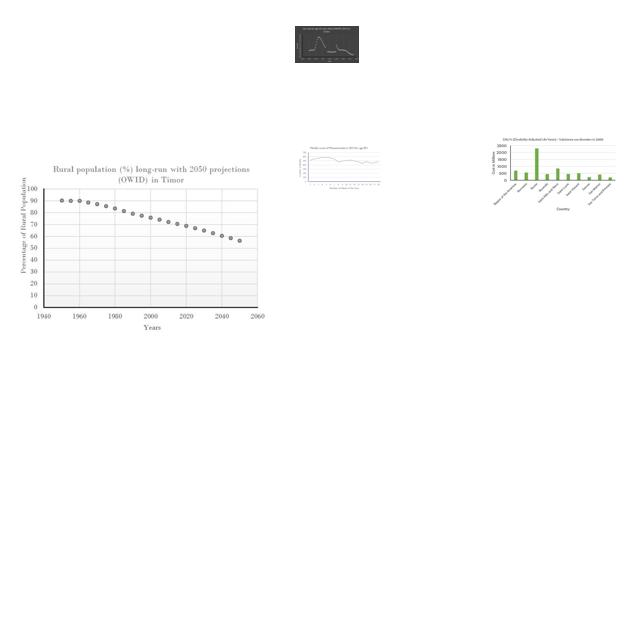Graph: (15, 155, 274, 336), (489, 136, 618, 213), (298, 146, 382, 191), (295, 26, 359, 63)
